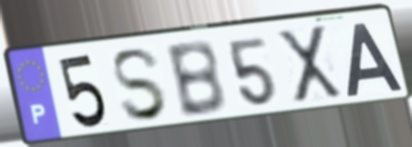5: (224, 33, 281, 107), (56, 52, 108, 131)
A: (344, 20, 406, 99)
B: (163, 38, 229, 121)
S: (109, 45, 171, 124)
X: (274, 23, 346, 107)
